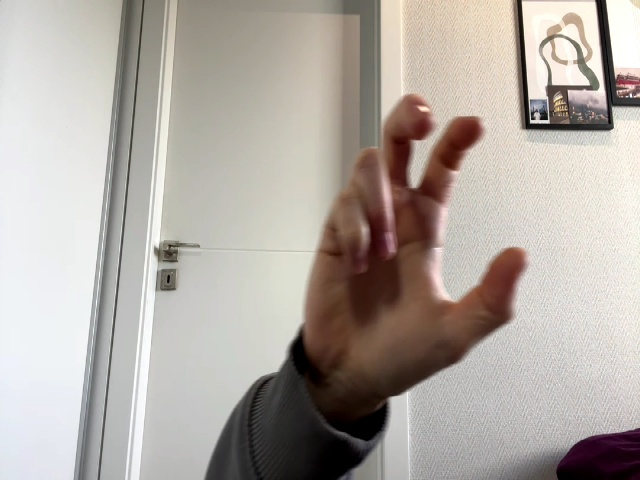CH: (304, 95, 530, 402)
